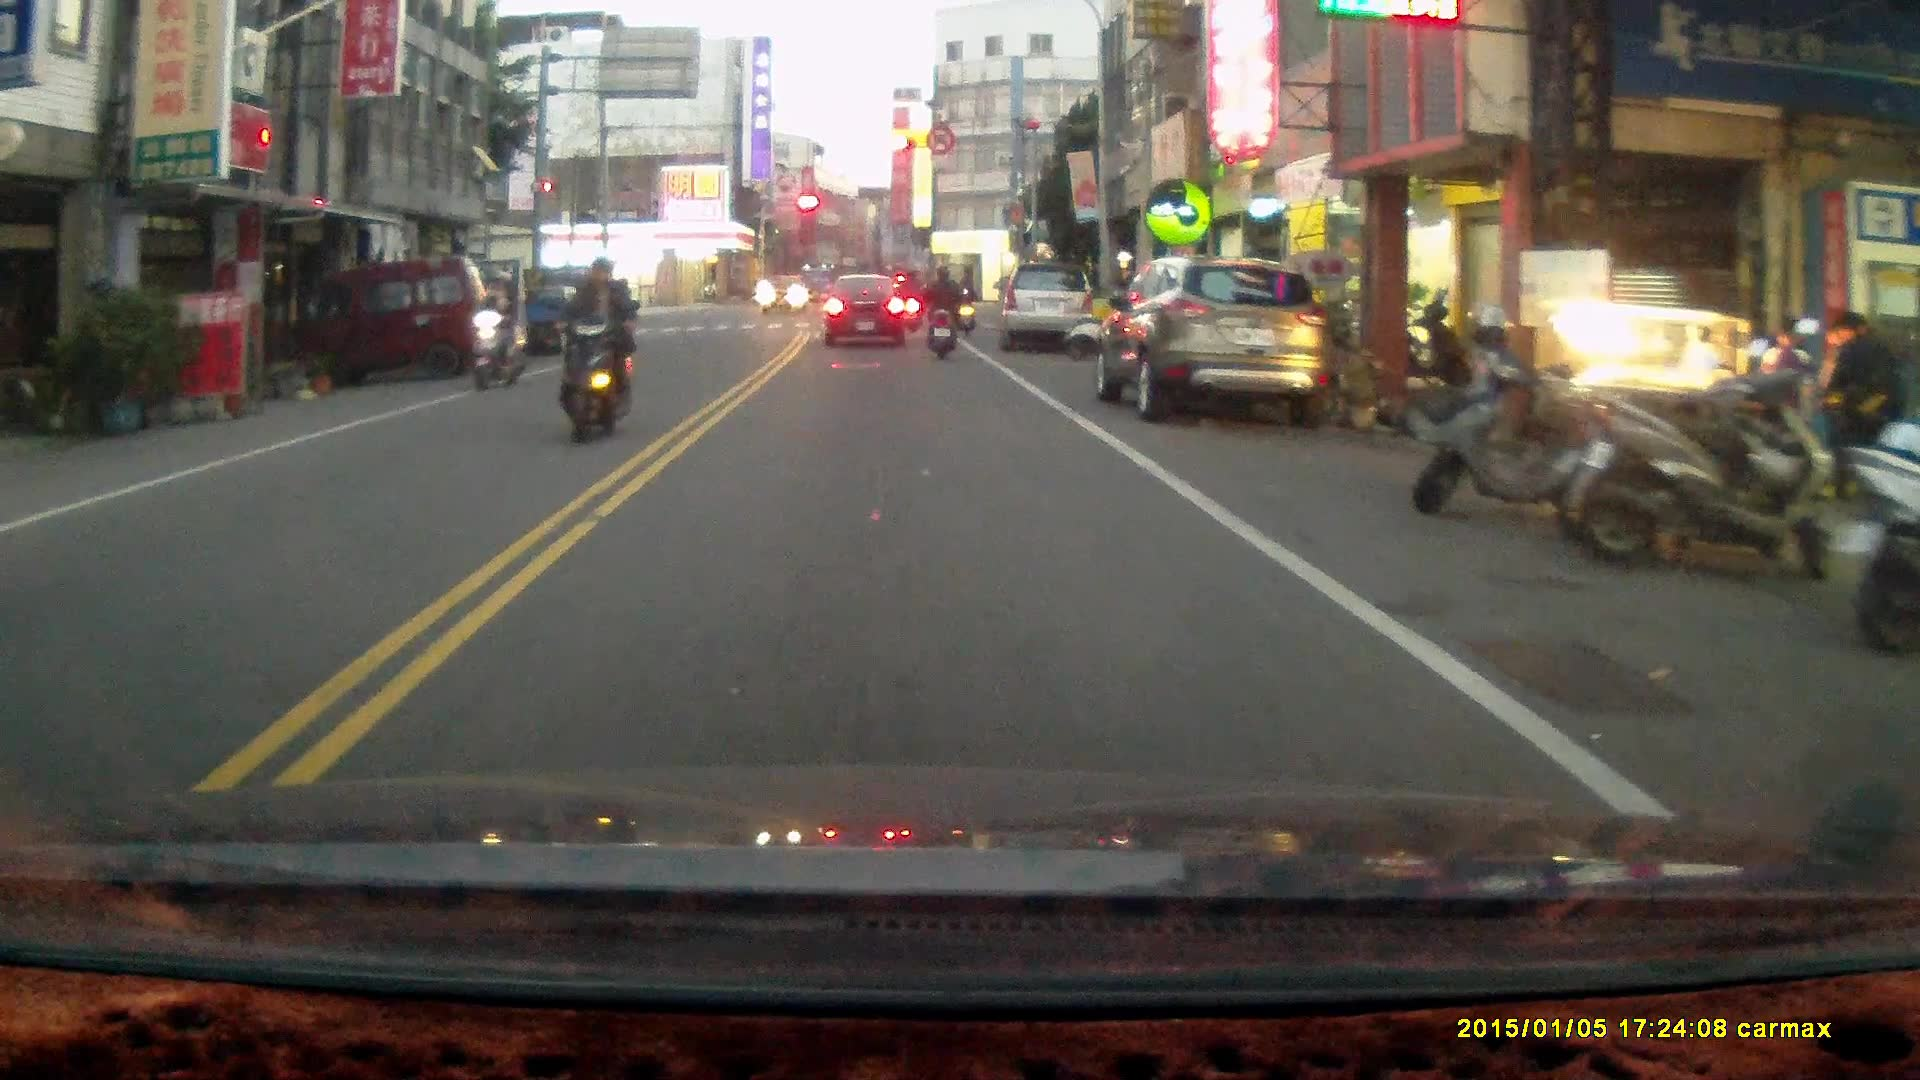pedestrian: (1819, 310, 1899, 504), (1761, 313, 1818, 476)
rider: (549, 253, 634, 445), (467, 268, 528, 392), (916, 263, 961, 361), (897, 267, 924, 329), (953, 271, 978, 338)
vehicle: (1097, 255, 1333, 429), (290, 253, 499, 393), (1002, 262, 1096, 353), (823, 277, 913, 348)
